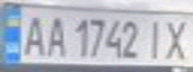1: (66, 14, 90, 58)
2: (121, 16, 145, 60)
4: (103, 15, 127, 60)
7: (87, 15, 106, 58)
A: (18, 10, 48, 57), (42, 11, 69, 58)
I: (142, 16, 169, 61)
X: (160, 15, 193, 61)
